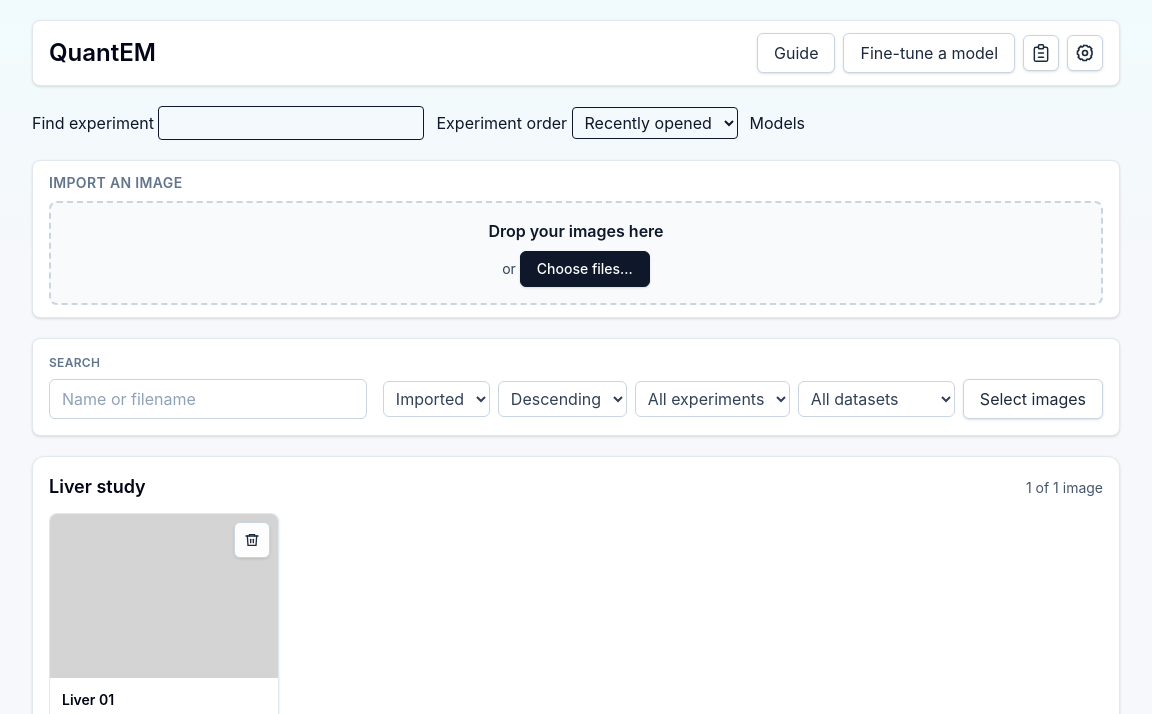
LibraryPage › can reopen the guide without forgetting that it was dismissed
Click the button "Guide" at (796, 53), box x1=757 y1=33 x2=836 y2=73
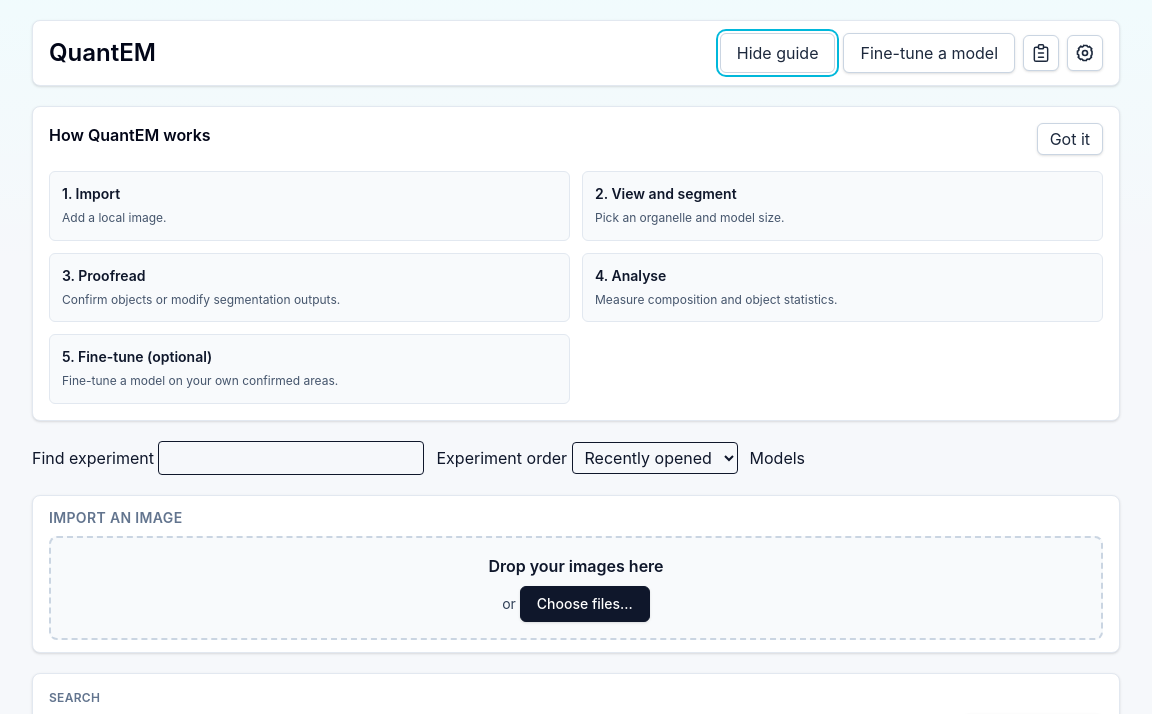
Check: the button "Hide guide" is shown, box x1=720 y1=33 x2=836 y2=73
